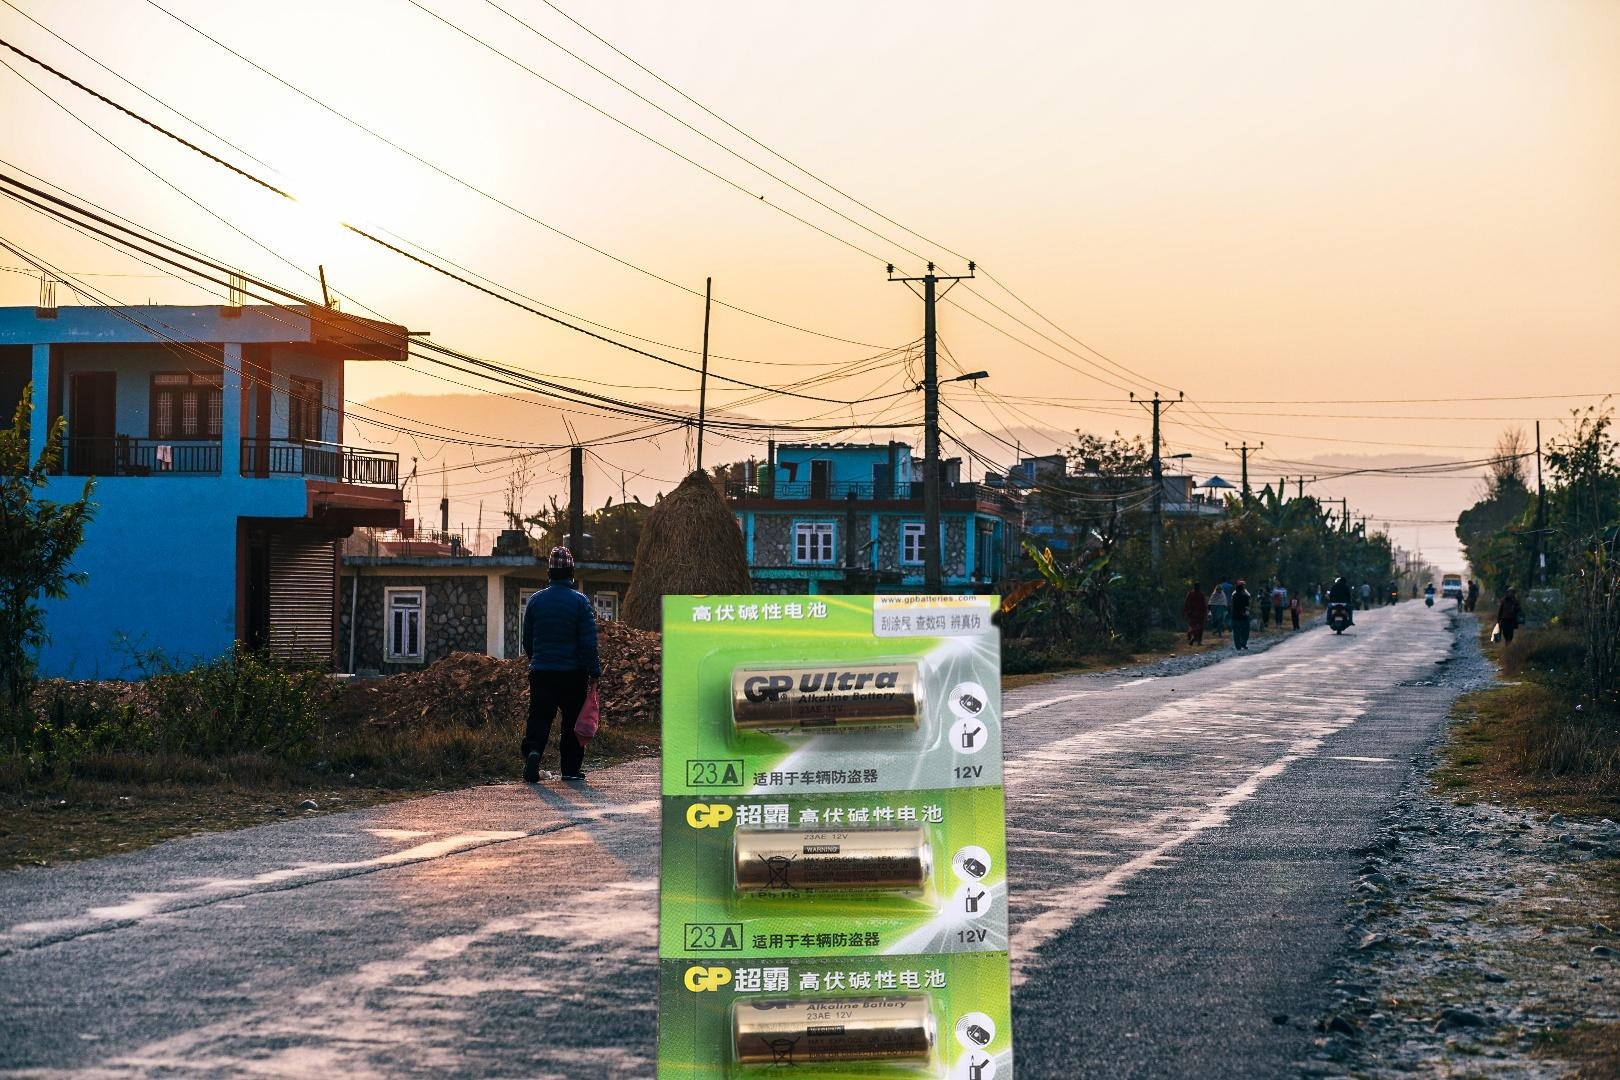battery: (638, 595, 1111, 1080)
